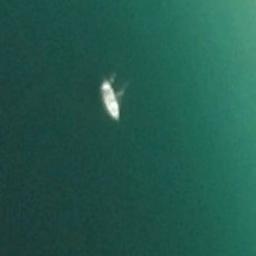boat: (98, 76, 122, 124)
